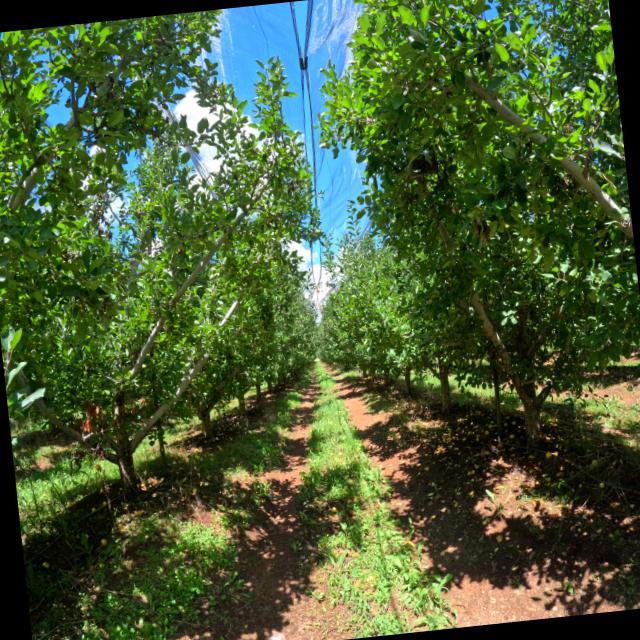-FireBlight-: (83, 399, 103, 421), (66, 449, 86, 469), (79, 418, 92, 432), (140, 398, 150, 408), (98, 450, 105, 461), (91, 450, 98, 459), (95, 463, 101, 472), (130, 408, 136, 415)
